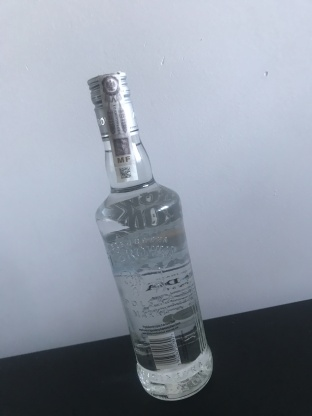nakretka: (85, 68, 140, 143)
